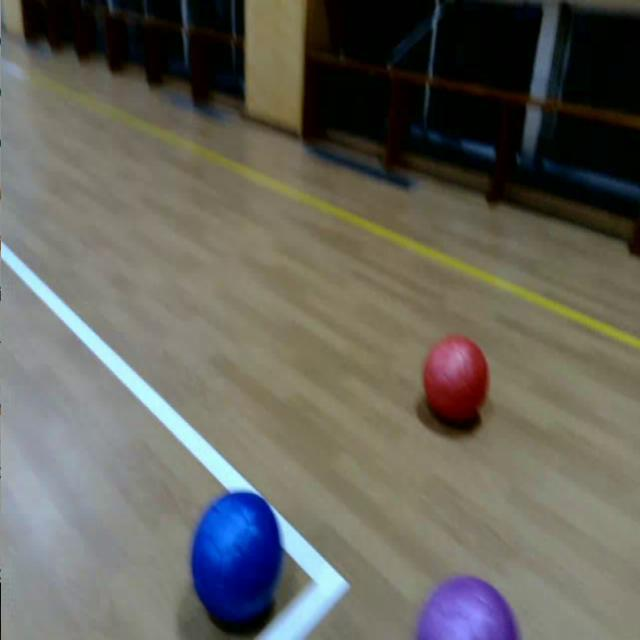blue_ball: (190, 490, 284, 626)
purple_ball: (414, 573, 522, 640)
red_ball: (424, 335, 492, 425)
